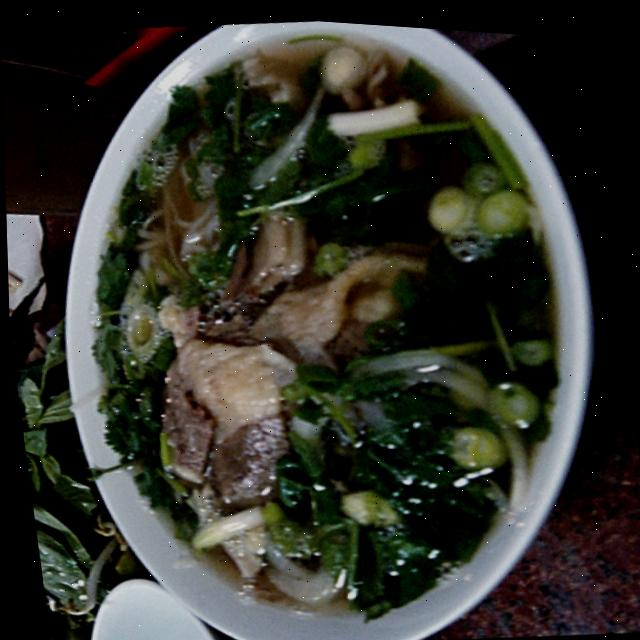面条主食: (1, 0, 637, 640)
